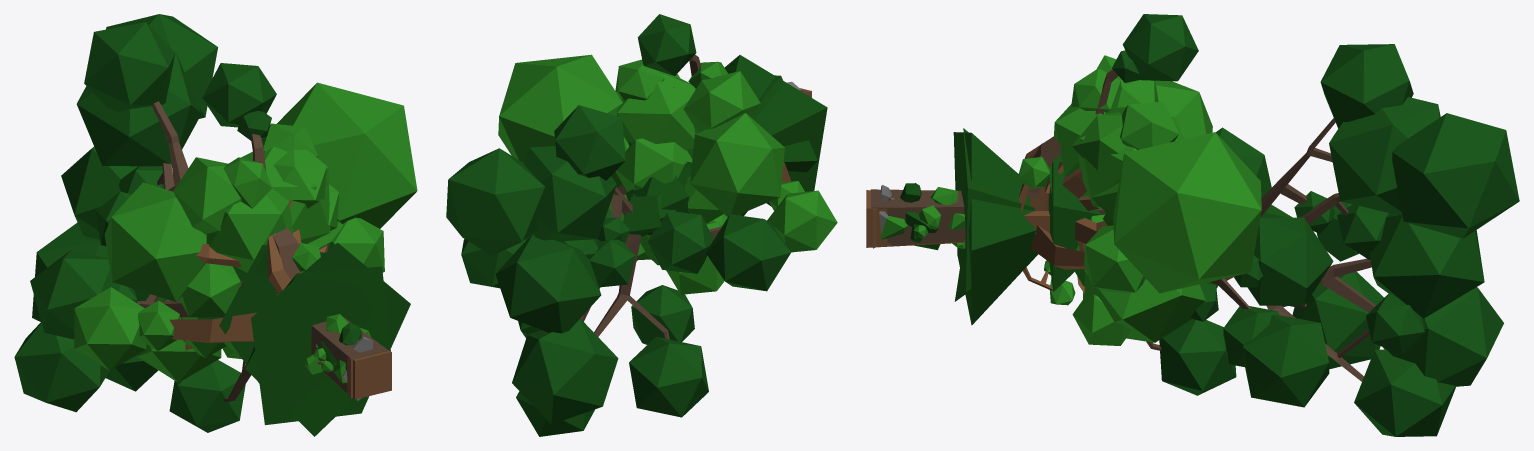
The model's file is MageHunter - Environment2.fbx.
3 renders of one model, left to right at view 1: azimuth 30°, elevation 25°; view 2: azimuth 150°, elevation 25°; view 3: azimuth 270°, elevation 25°, orthographic. The views are drawn at different scales.
Visible parts, largest first — view 1: Icosphere.024, Cube.003, Tree_1, Tree_2, Cube.001, Tree_2.001, Cube.004, Icosphere.001; view 2: Icosphere.024, Cube.003, Tree_1, Tree_2, Cube.001, Tree_2.001; view 3: Icosphere.024, Tree_1, Tree_2, Cube.001, Cube.003, Tree_2.001, Cube.004.
Part boxes in pixels (x1,y1,x2,y2): Icosphere.024: (14, 14, 388, 432); Cube.003: (74, 146, 391, 399); Tree_1: (179, 82, 417, 354); Tree_2: (219, 242, 410, 425); Cube.001: (173, 149, 387, 398); Tree_2.001: (197, 252, 390, 436); Cube.004: (305, 314, 348, 374); Icosphere.001: (324, 322, 361, 370); Icosphere.024: (446, 14, 810, 436); Cube.003: (615, 71, 837, 294); Tree_1: (498, 54, 664, 265); Tree_2: (623, 55, 827, 236); Cube.001: (609, 61, 811, 260); Tree_2.001: (633, 75, 817, 235); Icosphere.024: (871, 14, 1519, 436); Tree_1: (873, 101, 1261, 345); Tree_2: (953, 132, 1292, 325); Cube.001: (870, 55, 1205, 342); Cube.003: (866, 80, 1218, 298); Tree_2.001: (954, 128, 1052, 301); Cube.004: (930, 187, 965, 248).
Size of the model in its own units: 1958 by 2106 by 3000.
Materials: 2 (1 with a texture image).
